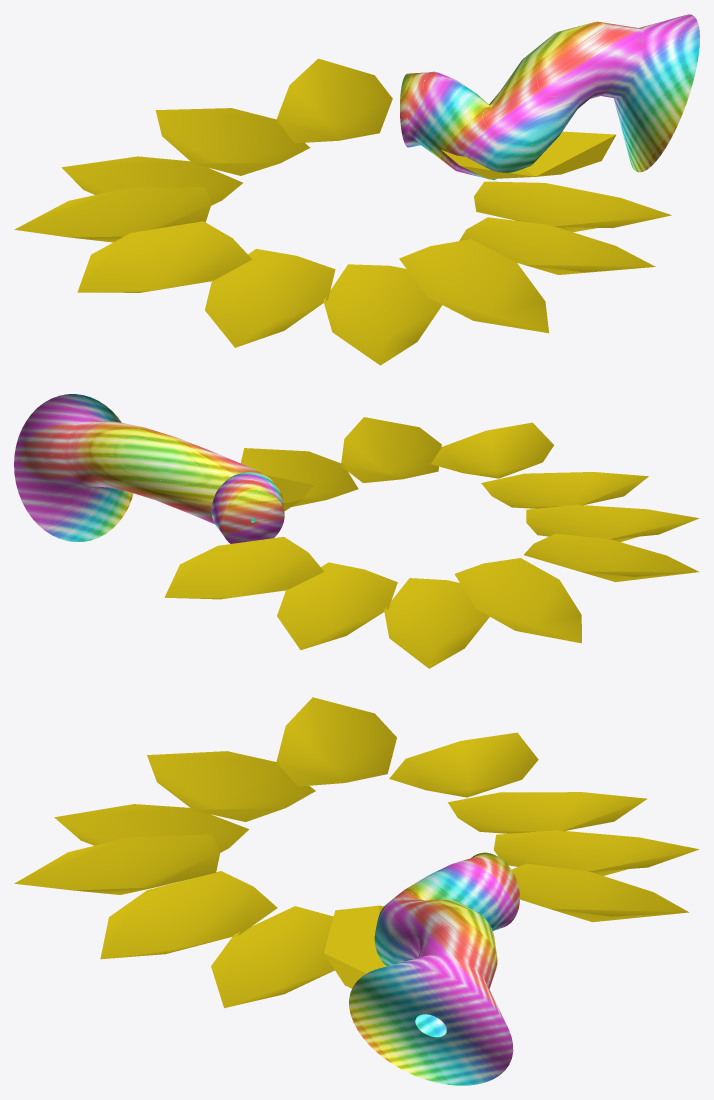
File: flor.fbx
3 views of the same model, one above another, from view 1: azimuth 30°, elevation 25°; view 2: azimuth 150°, elevation 25°; view 3: azimuth 270°, elevation 25° (orthographic). The views are drawn at different scales.
Parts seen in each view (by area): view 1: Spiral.002; view 2: Spiral.002; view 3: Spiral.002.
Part boxes in pixels (bbox=[...]): Spiral.002: bbox=[14, 14, 699, 365]; Spiral.002: bbox=[14, 394, 699, 668]; Spiral.002: bbox=[14, 697, 699, 1085].
Size of the model in its own units: 458 by 90.28 by 381.
